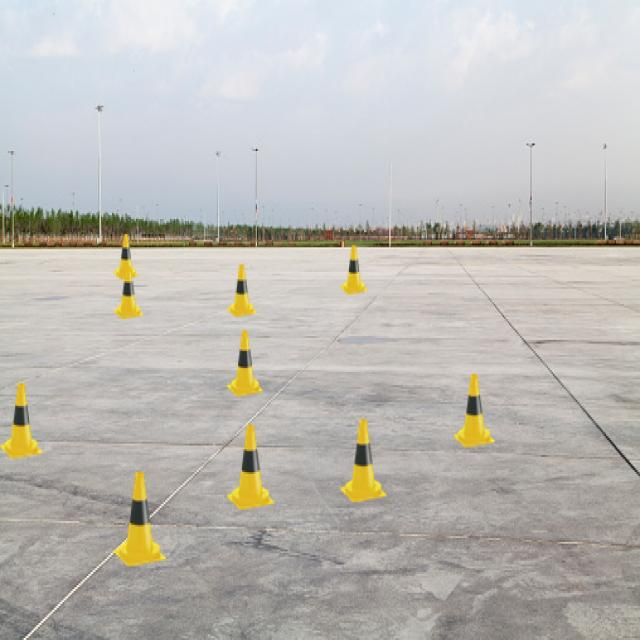yellow_cone: (114, 472, 166, 566), (227, 425, 274, 510), (340, 419, 387, 502), (0, 383, 43, 459), (454, 374, 495, 447), (227, 331, 263, 396), (227, 264, 257, 317), (114, 266, 144, 319), (340, 246, 368, 294), (114, 234, 138, 280)
